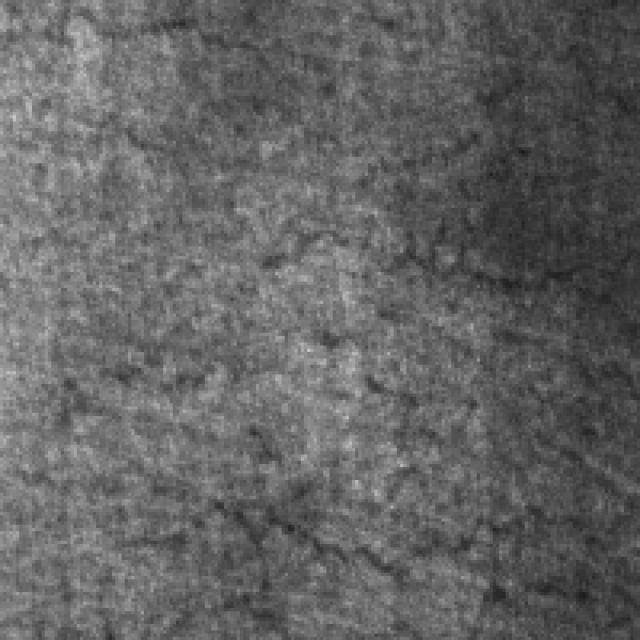crazing: (86, 426, 640, 576), (272, 259, 640, 410)
